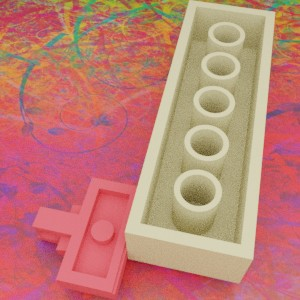lego: (124, 0, 275, 283), (32, 177, 143, 299)
